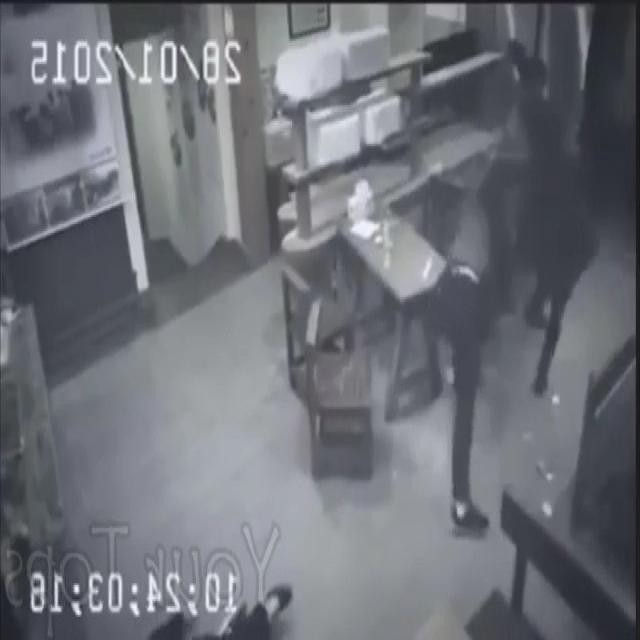fight: (402, 42, 609, 534)
